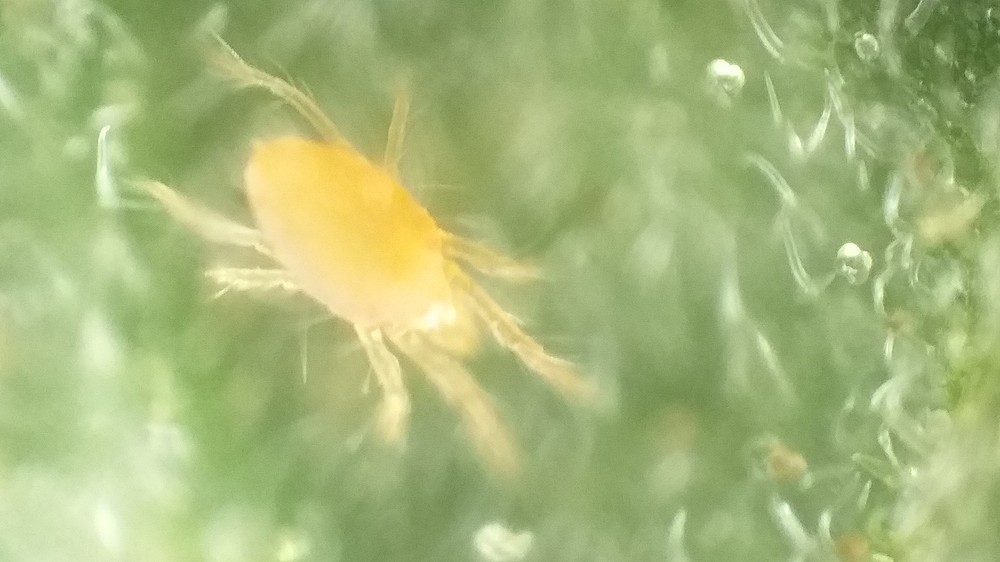Aracnido Rojo: (137, 43, 641, 490)
